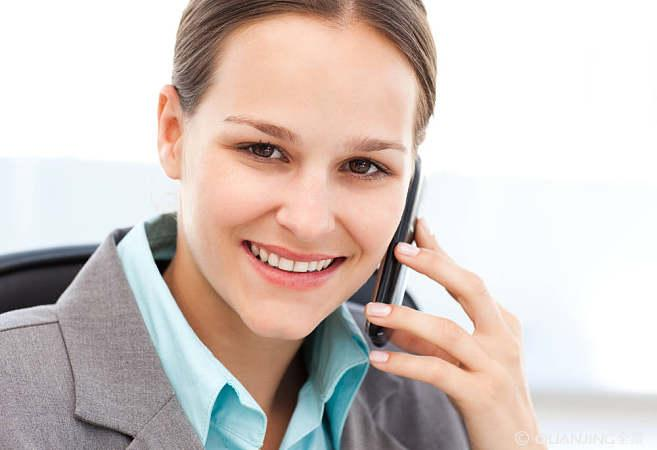calling: (362, 150, 547, 450)
